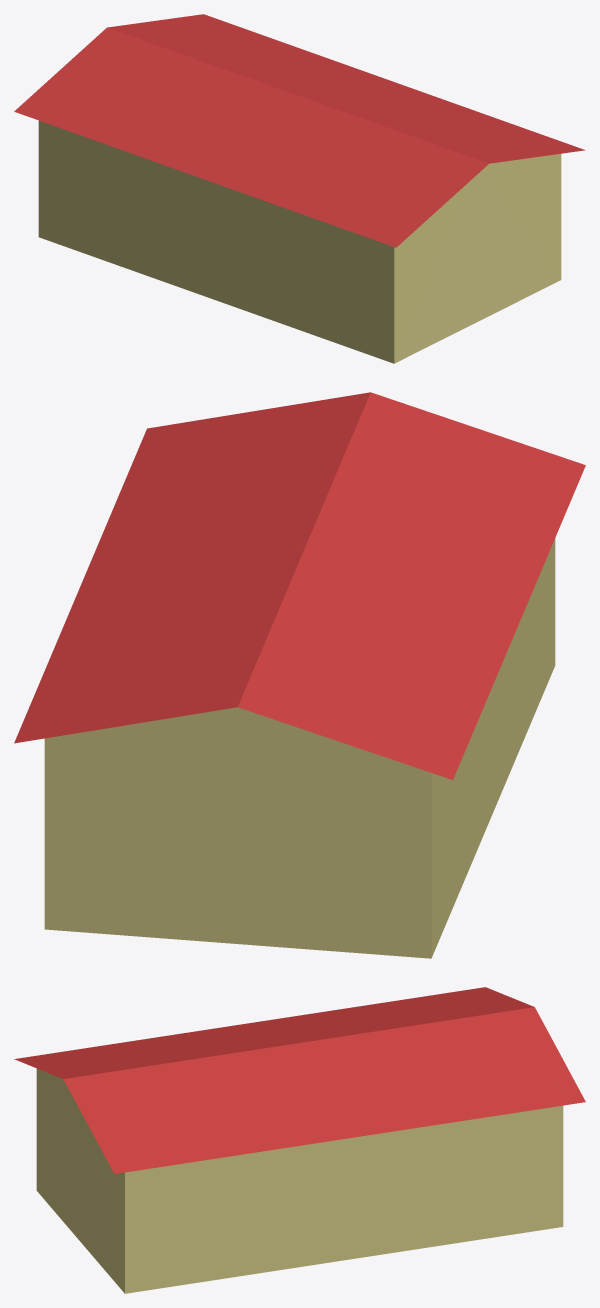
The picture shows the model from 3 angles, top to bottom: view 1: azimuth 30°, elevation 25°; view 2: azimuth 150°, elevation 25°; view 3: azimuth 270°, elevation 25°; orthographic projection. The views are drawn at different scales.
Bounding box in the file's own units: 19.14 × 24.42 × 7.75.
